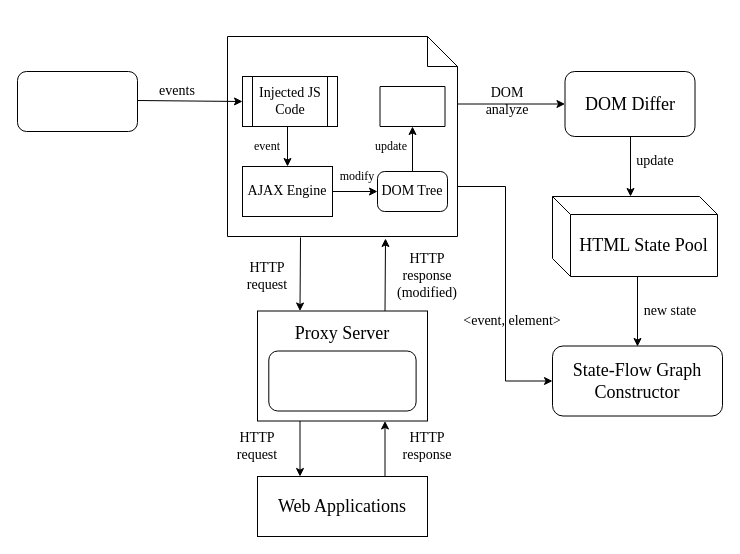
Image size: 740x554. Some labels were removed from this diagram. The box of each missing label's shape, as (x1, y1, x2, y2) in pixels:
Browser: (226, 36, 458, 236)
Controller: (16, 70, 138, 132)
Parsing + JS Code Injecting: (268, 350, 416, 411)
UI Tags: (379, 86, 445, 126)
